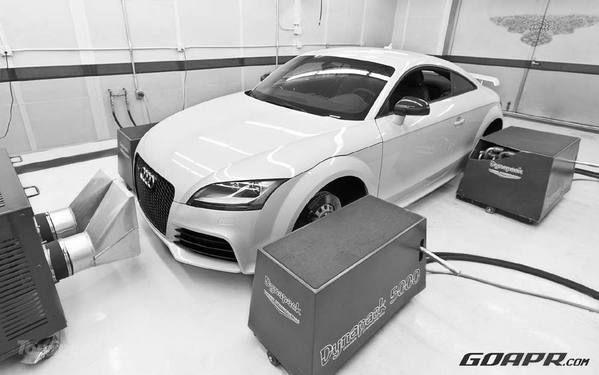car: (130, 43, 508, 281)
